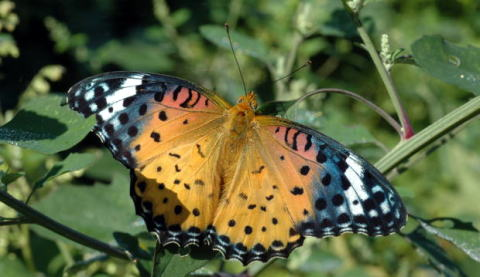Argyreus hyperbius: (61, 15, 410, 265)
butterfly: (63, 17, 412, 267)
